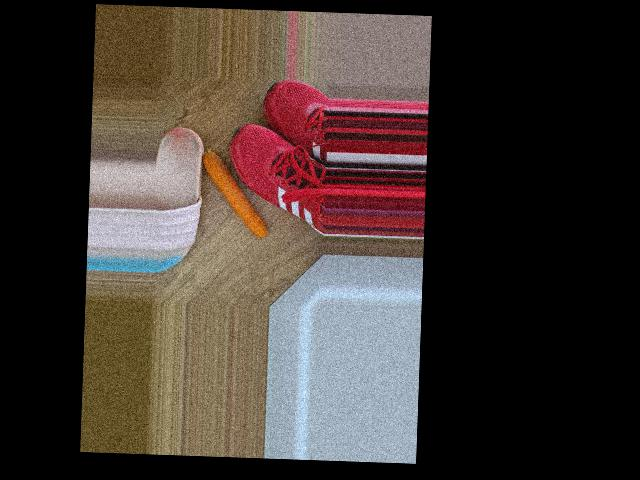carrot: (200, 150, 271, 237)
